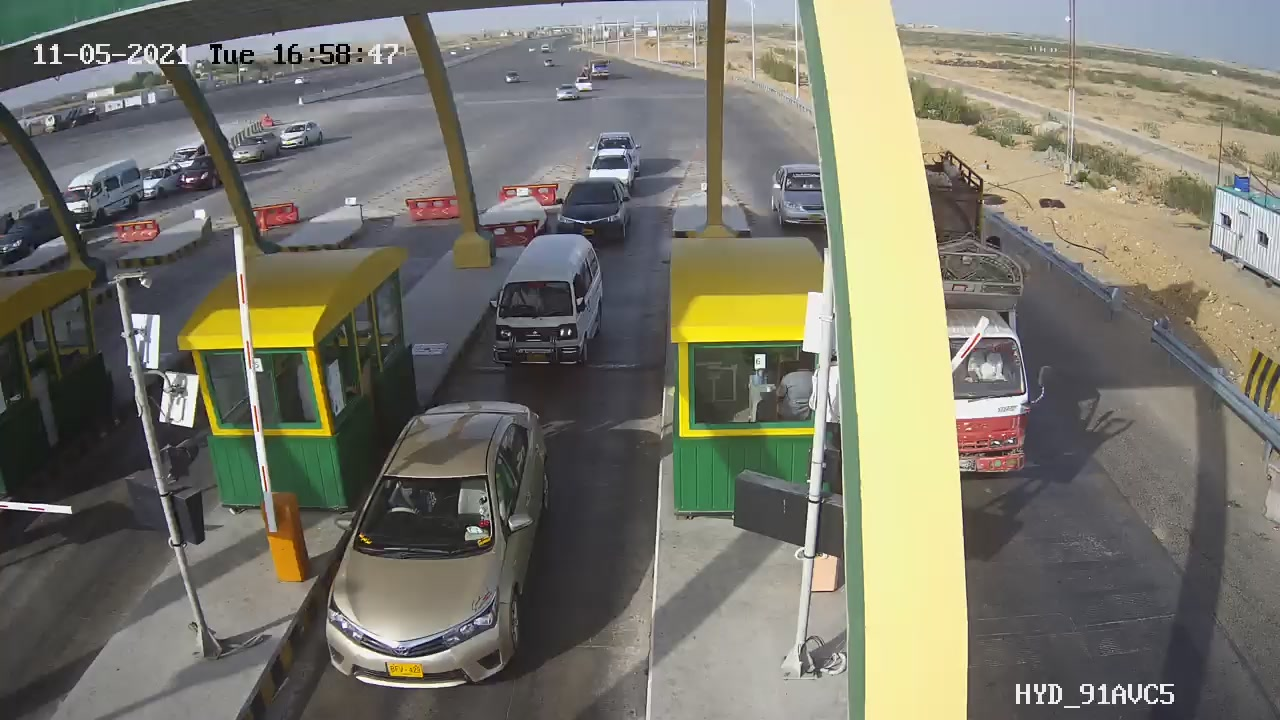F1: (472, 218, 619, 388), (536, 167, 645, 266)
